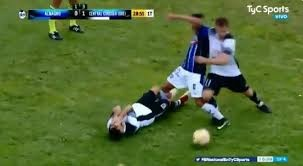falling: (100, 79, 192, 139)
